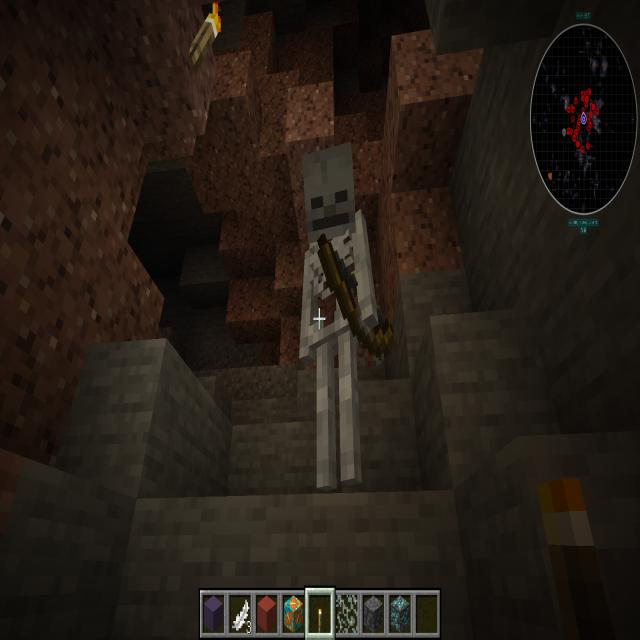Skeleton: (283, 128, 401, 522)
